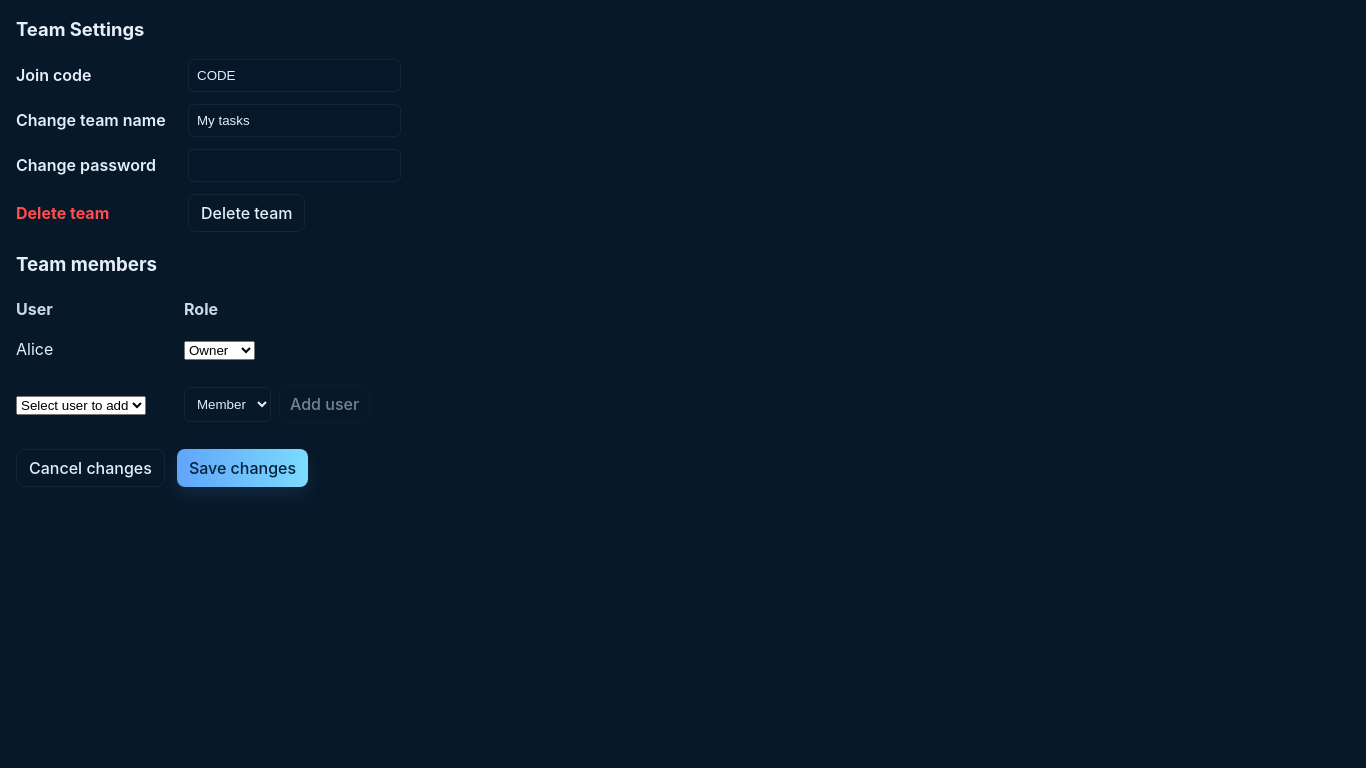
Scenario: TeamSettings › adds a new user and allows role changes and removal
Select "Charlie (id: 2)" in the 2nd dropdown at coordinates (81, 406), box 16,396 -> 146,415
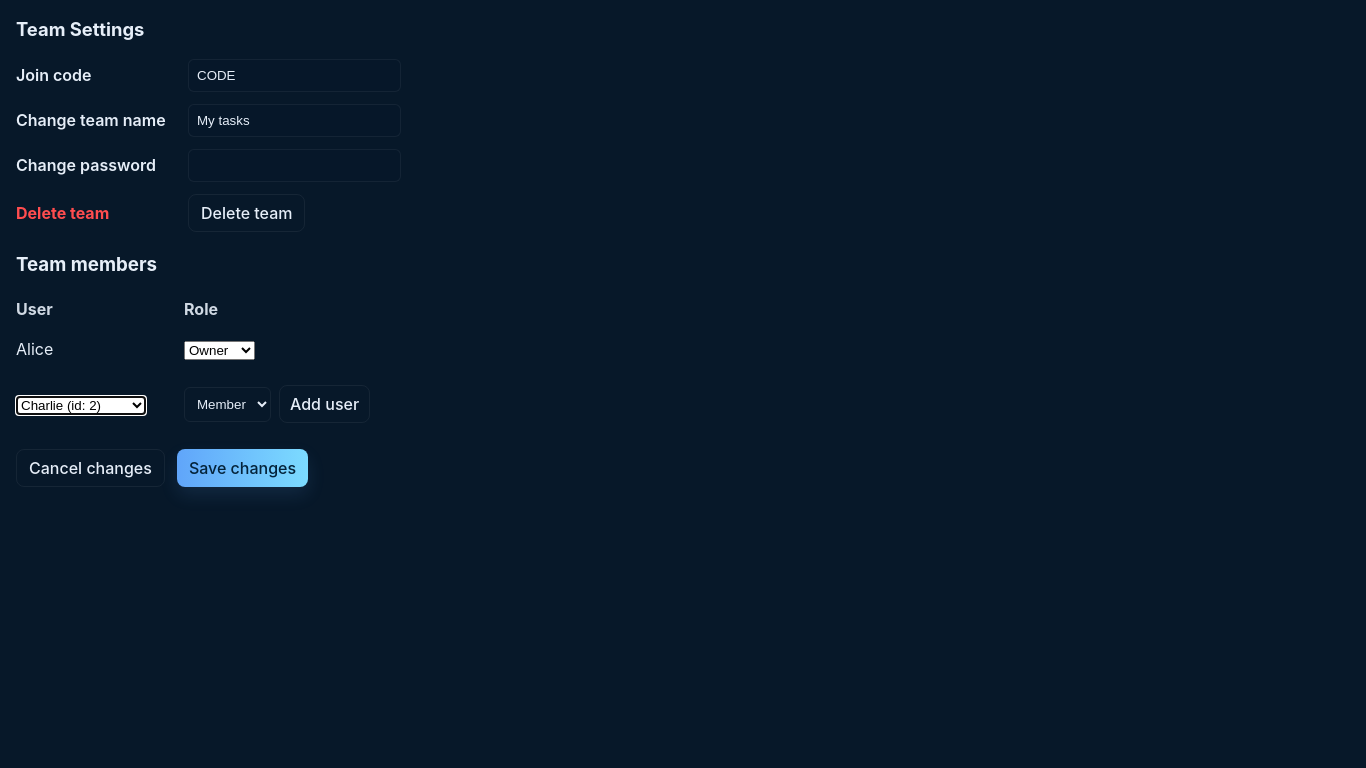
Check: the button "Add user" is enabled
Click the button "Add user" at coordinates (325, 404), box 279,385 -> 370,423
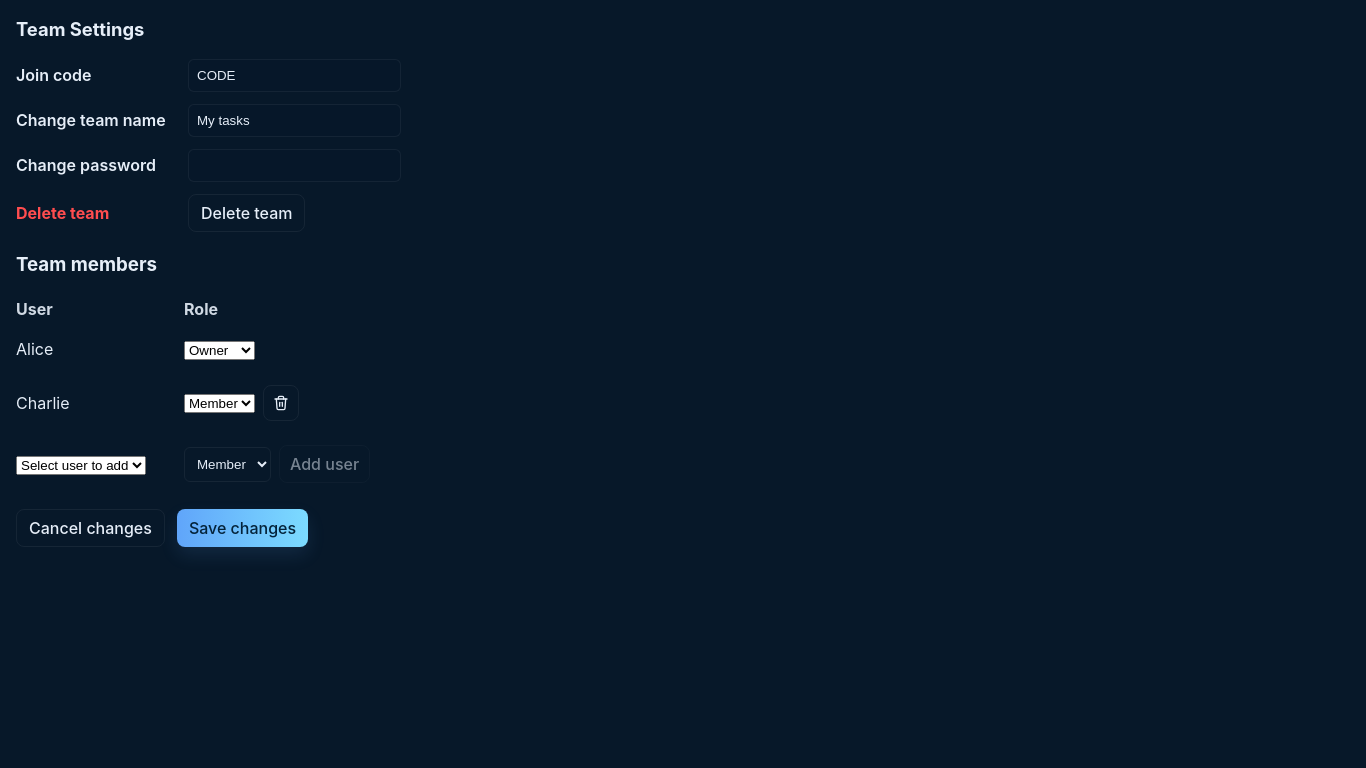
Check: the text "Charlie" is shown, box 16,393 -> 70,413
Select "Owner" in the 4th dropdown at coordinates (228, 464), box 184,447 -> 271,482
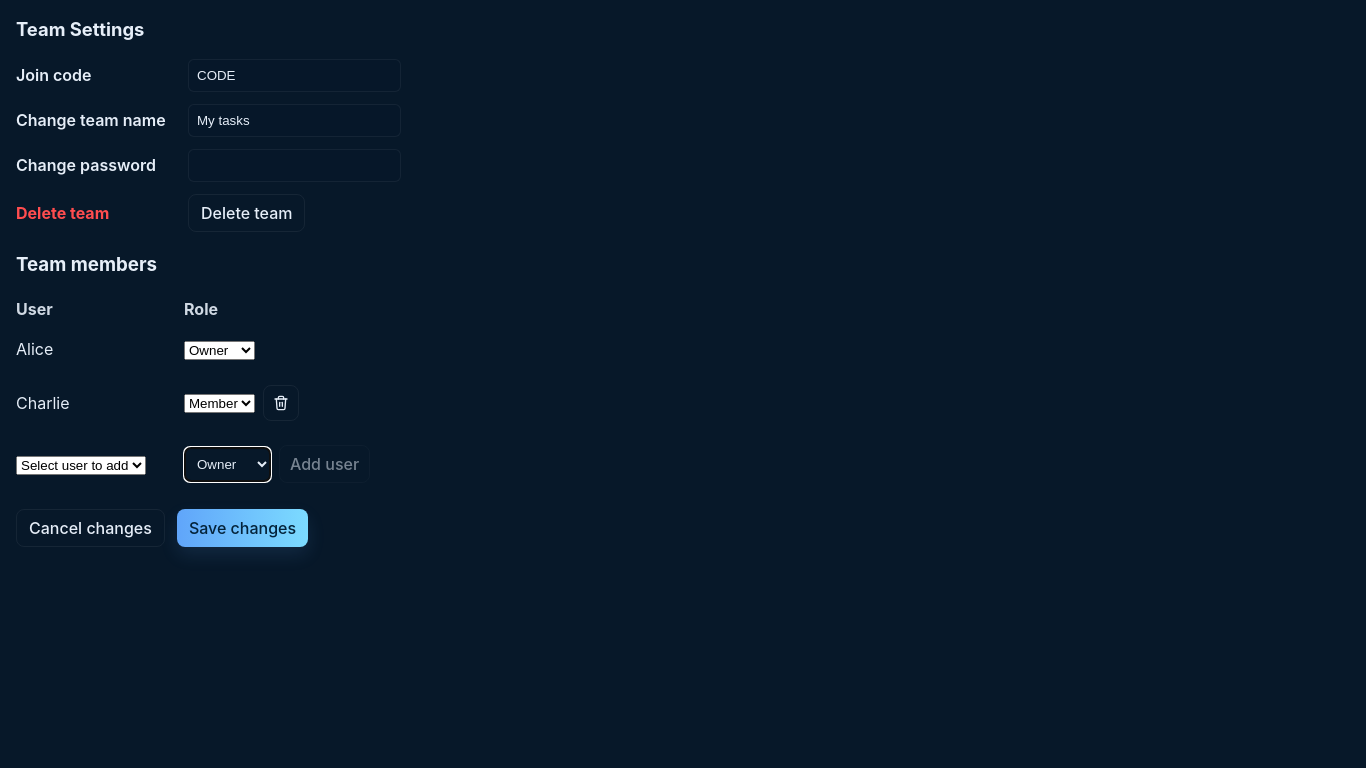
Click the button named "Remove Charlie" at coordinates (281, 403), box 263,385 -> 299,421
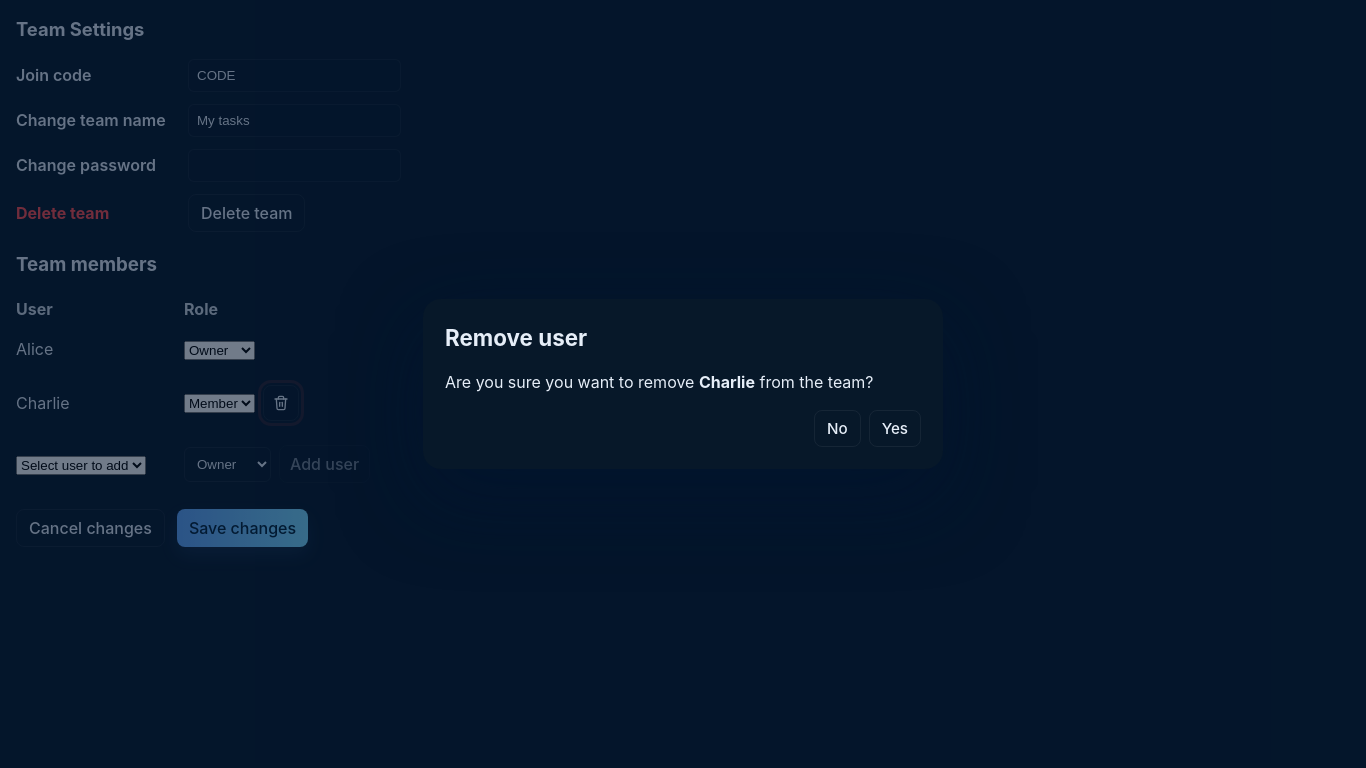
Check: the dialog is shown, box 423,299 -> 943,469
Click the button "Yes" at coordinates (895, 429), box 869,410 -> 921,447
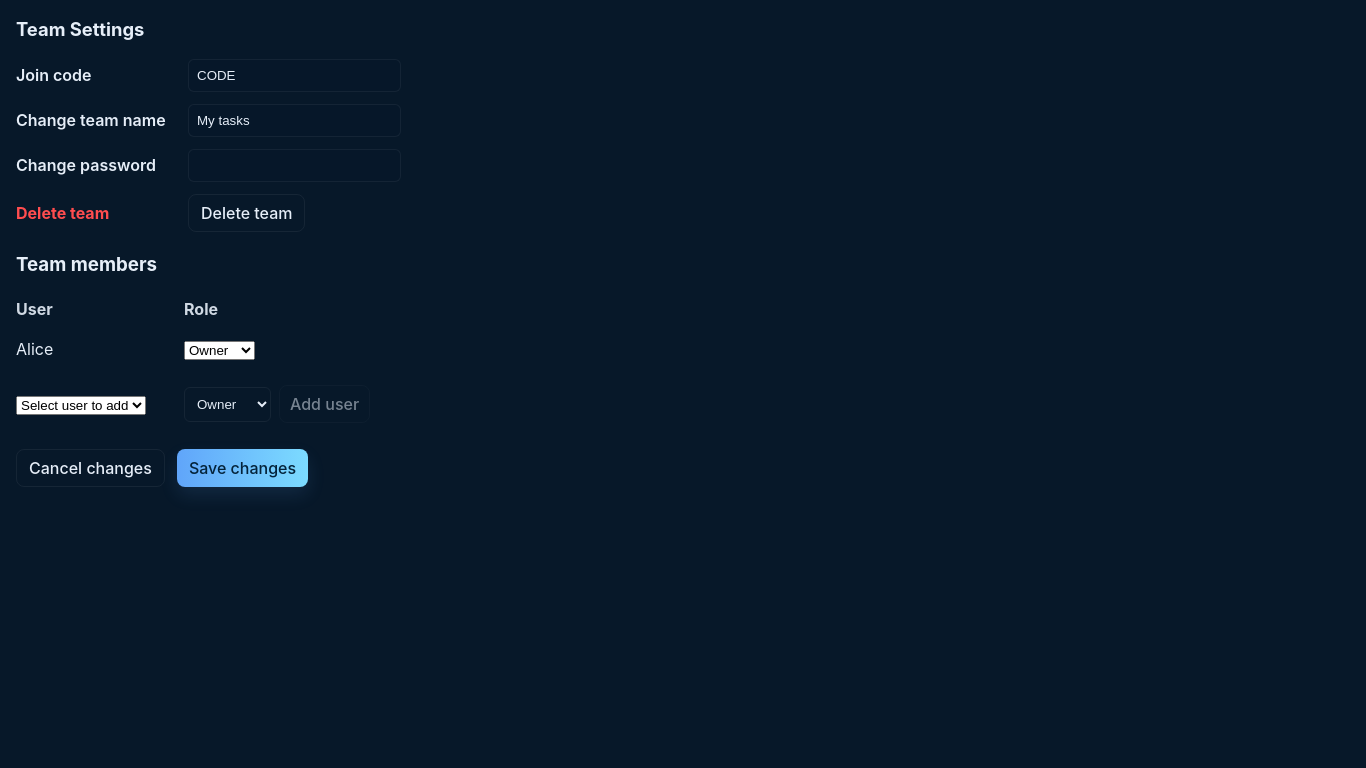
Check: the text "Charlie" is gone
